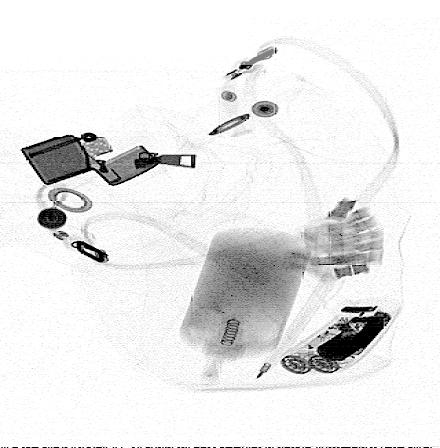Lighter: (20, 133, 162, 187)
